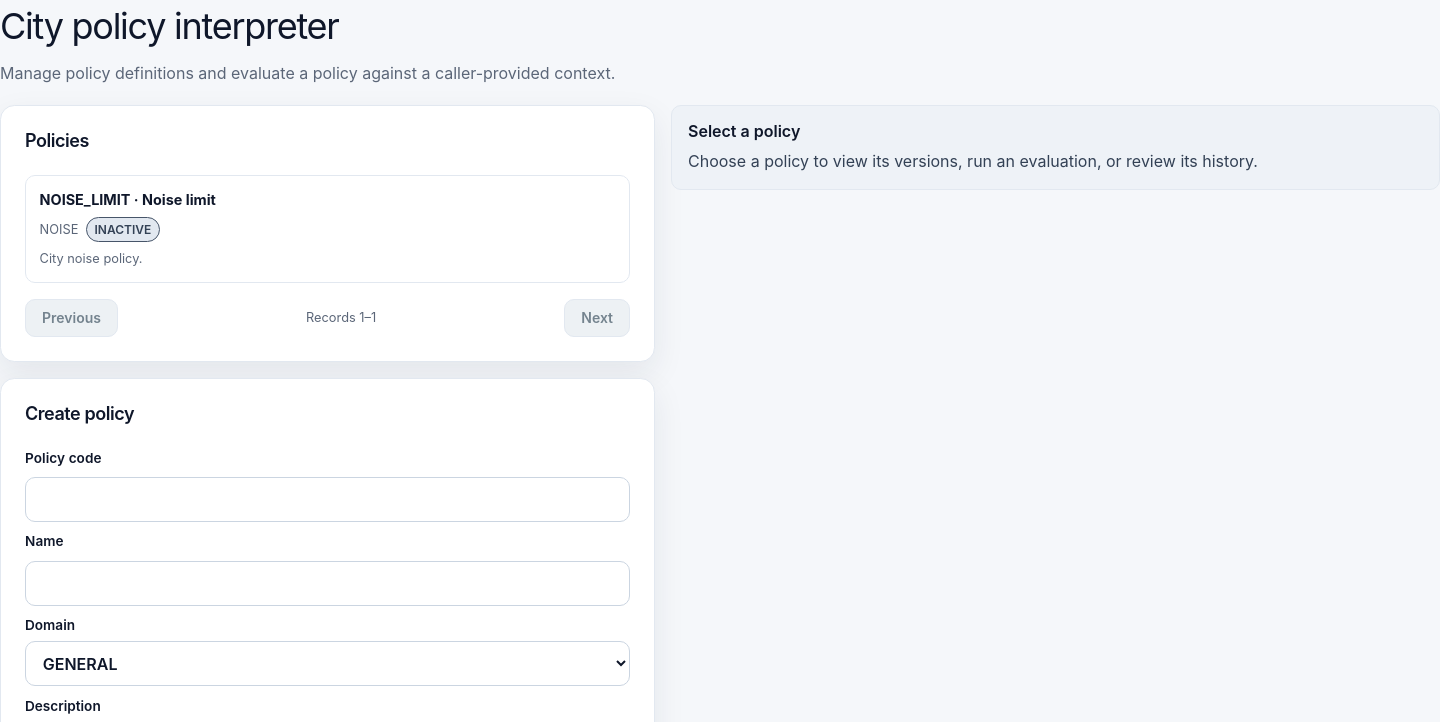
PoliciesPage › disables policy mutations while preserving version and evaluation history for inactive policies
The image size is (1440, 722).
Click the button "NOISE_LIMIT · Noise limit NOISE INACTIVE City noise policy." at (85, 199), box [25, 175, 630, 283]
(page scrolled)
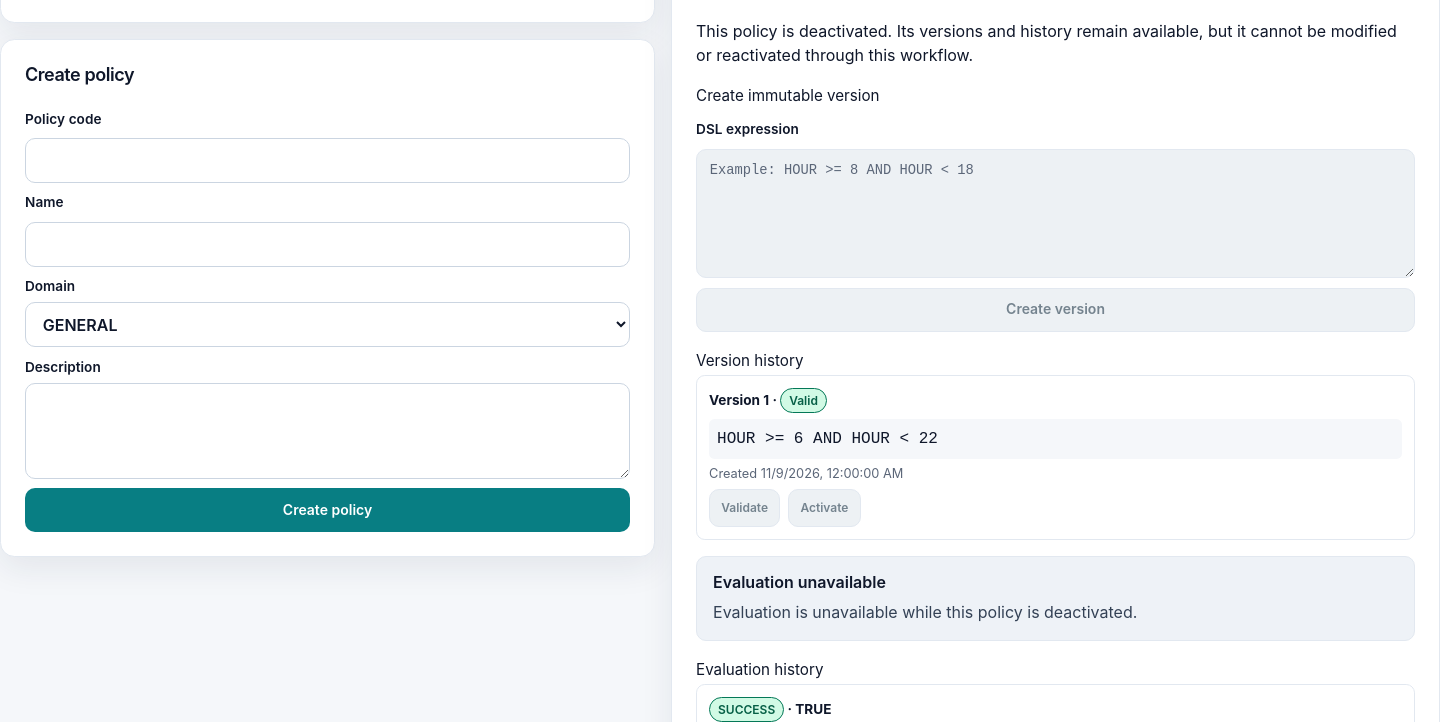
Expected: the message shows "This policy is deactivated. Its versions and history remain available, but it cannot be modified or reactivated through this workflow.", [696, 21, 1397, 65]
Expected: the text box labelled "DSL expression" is disabled, [696, 149, 1415, 278]
Expected: the button "Create version" is disabled, [696, 288, 1415, 332]
